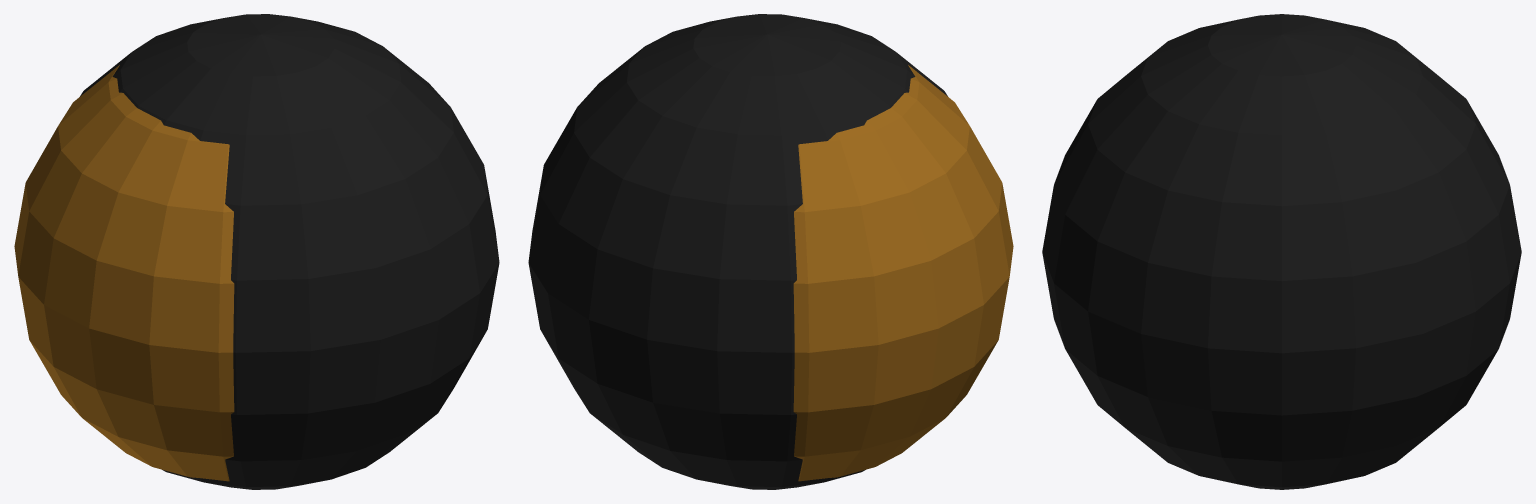
Rendered from EYE_Y_LINK_mesh.dae.
The picture shows the model from 3 angles, left to right: view 1: azimuth 30°, elevation 25°; view 2: azimuth 150°, elevation 25°; view 3: azimuth 270°, elevation 25°; orthographic projection.
Visible parts, largest first — view 1: EYE_Y_LINK (×2); view 2: EYE_Y_LINK (×2); view 3: EYE_Y_LINK.
Boxes of the visible parts, <box> form: EYE_Y_LINK (×2): <box>14,14,499,489</box>; EYE_Y_LINK (×2): <box>528,14,1013,489</box>; EYE_Y_LINK: <box>1042,14,1521,489</box>.
Size of the model in its own units: 0.0117 by 0.0114 by 0.0114.
